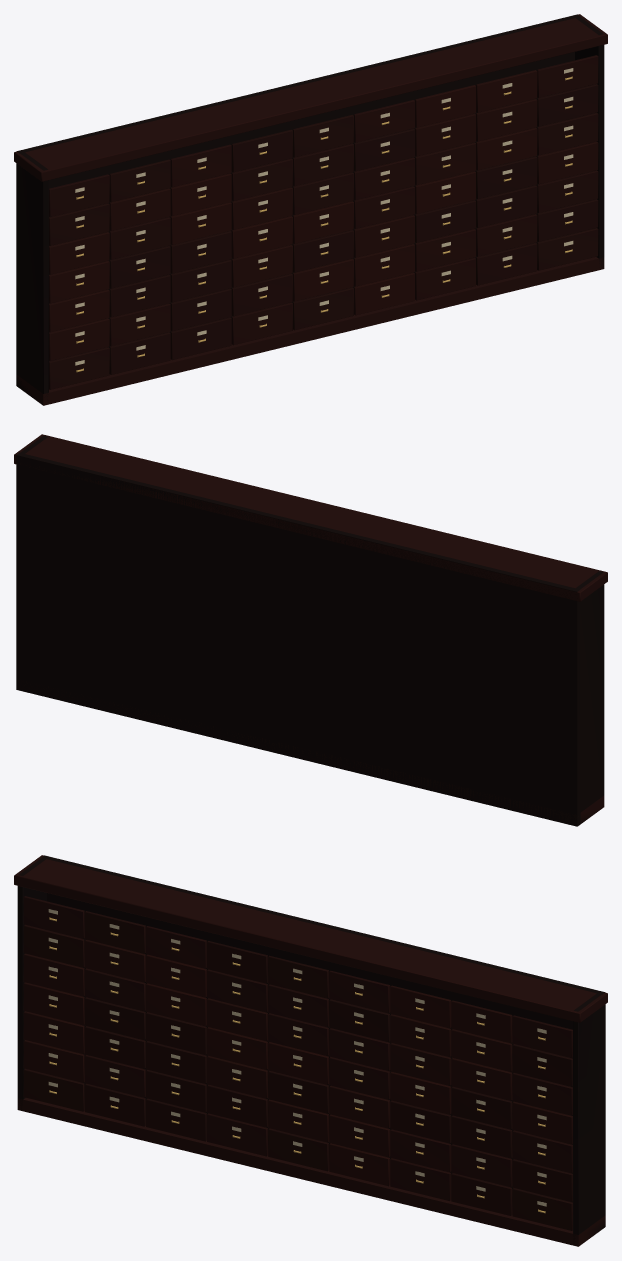
Rendered from tea-drawer-wall.glb.
The picture shows the model from 3 angles, top to bottom: view 1: azimuth 30°, elevation 25°; view 2: azimuth 150°, elevation 25°; view 3: azimuth 330°, elevation 25°; orthographic projection.
Visible parts, largest first — view 1: frame__wood, labels__paint, pulls__brass; view 2: frame__wood; view 3: frame__wood, labels__paint, pulls__brass.
Part boxes in pixels (x1,y1,x2,y2): frame__wood: (14, 14, 607, 405); labels__paint: (75, 68, 573, 365); pulls__brass: (76, 76, 572, 372); frame__wood: (14, 434, 607, 826); frame__wood: (14, 855, 607, 1246); labels__paint: (48, 909, 546, 1206); pulls__brass: (49, 917, 545, 1213).
Bounding box in the file's own units: 6.06 × 2.4 × 0.52.
